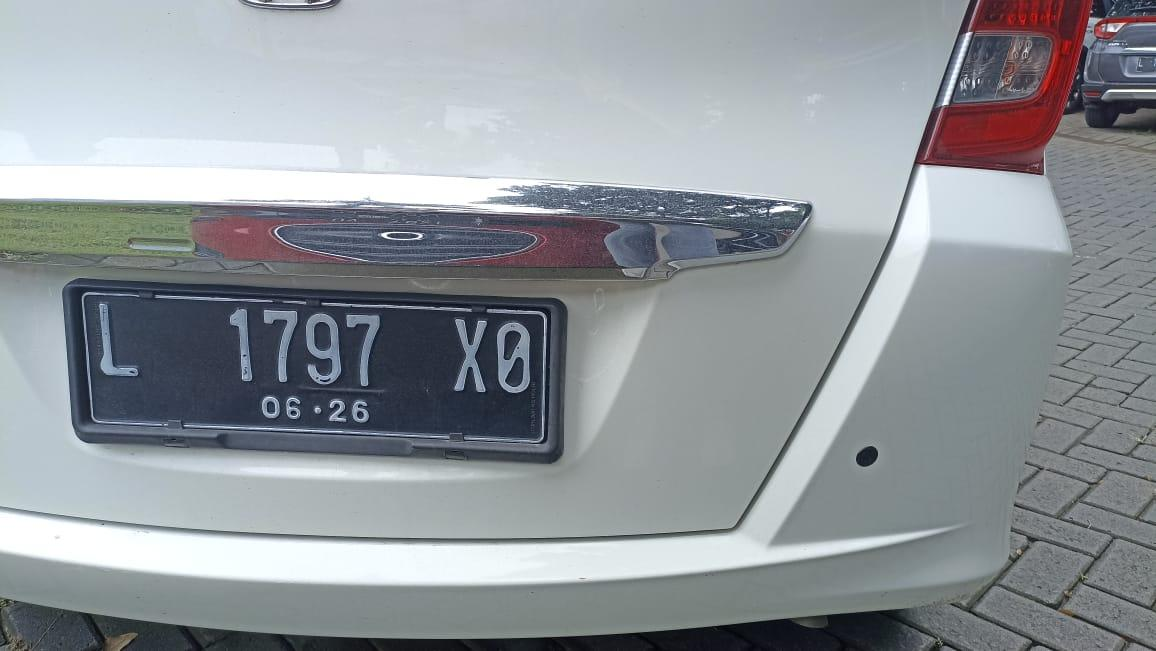plat: (65, 280, 564, 461)
